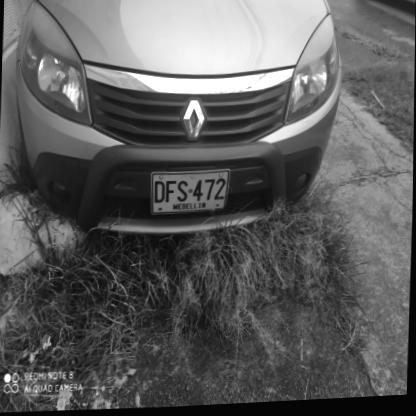placa: (148, 167, 230, 220)
